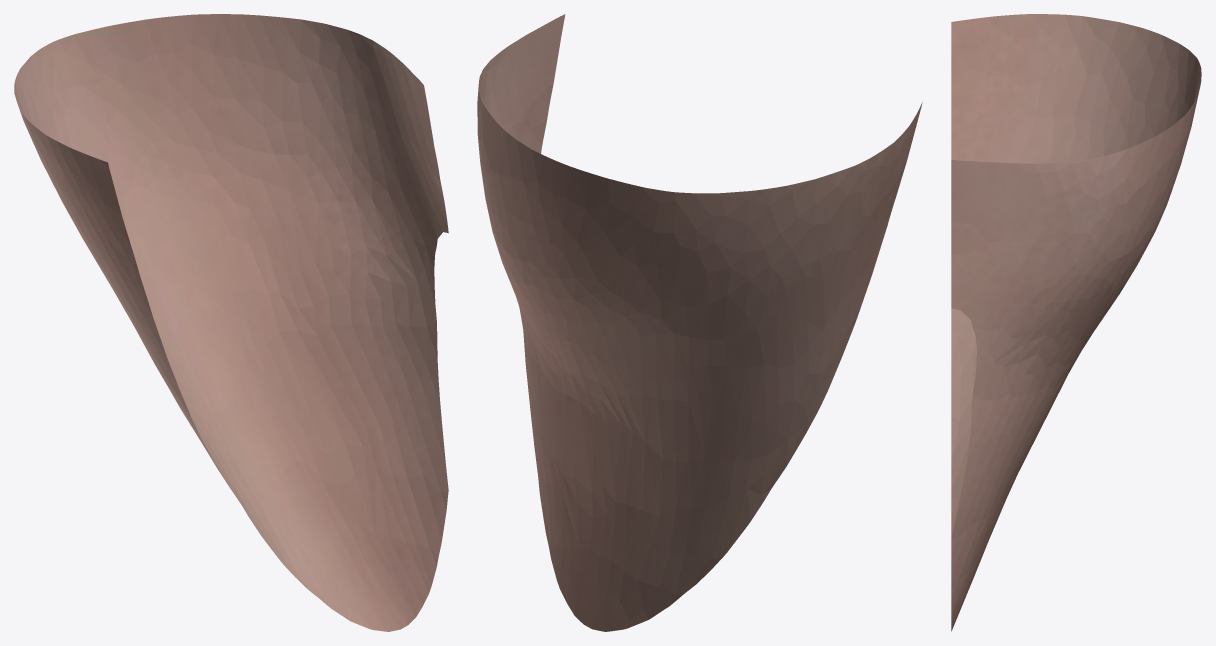
The picture shows the model from 3 angles, left to right: view 1: azimuth 30°, elevation 25°; view 2: azimuth 150°, elevation 25°; view 3: azimuth 270°, elevation 25°; orthographic projection. The views are drawn at different scales.
Visible parts, largest first — view 1: 091_W_Aya_100K_01; view 2: 091_W_Aya_100K_01; view 3: 091_W_Aya_100K_01.
Boxes of the visible parts, box(x1,y1,x2,y2) form: 091_W_Aya_100K_01: box(14, 14, 448, 631); 091_W_Aya_100K_01: box(477, 14, 922, 631); 091_W_Aya_100K_01: box(951, 14, 1201, 631).
Bounding box in the file's own units: 107 × 153 × 72.17.
1 material, 1 textured.
